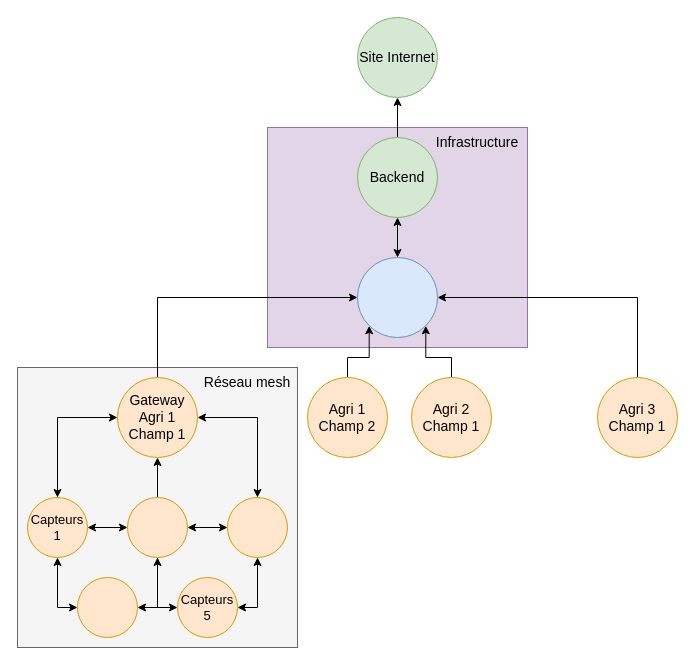
Image size: 695x665. Some labels were removed from this diagram. The centre of each missing label's shape, as x and y in pixels:
"Base de données" belongs at point (397, 297).
"Capteurs 2" belongs at point (157, 527).
"Capteurs 3" belongs at point (257, 527).
"Capteurs 4" belongs at point (107, 607).
